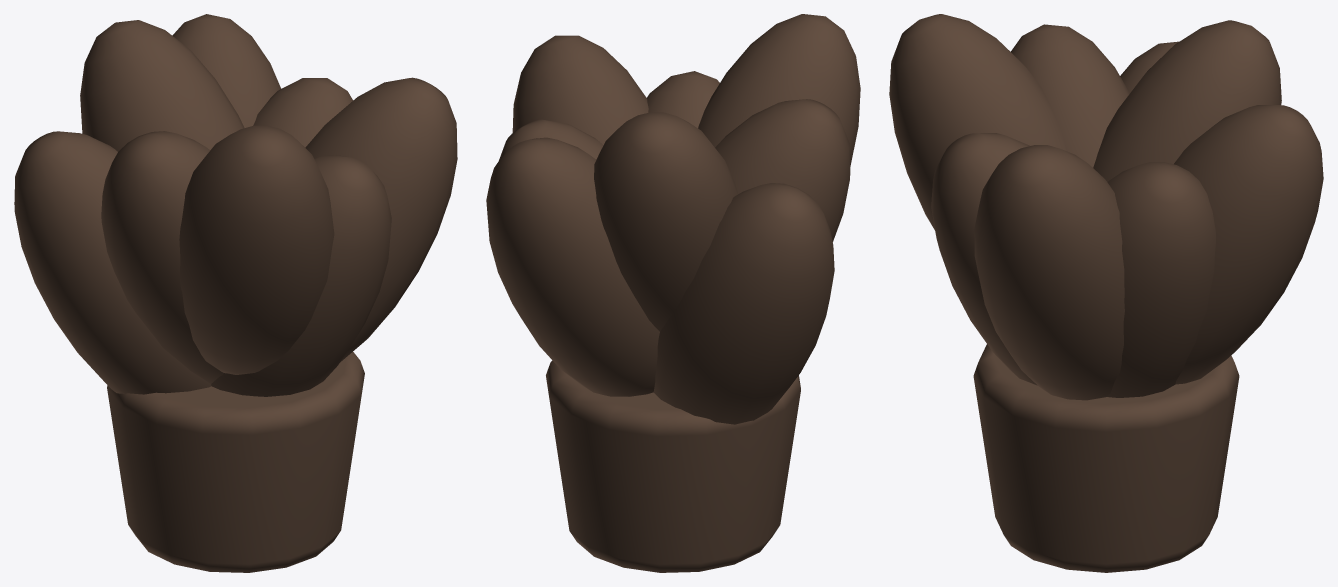
The model's file is plant_small.glb.
3 renders of one model, left to right at view 1: azimuth 30°, elevation 25°; view 2: azimuth 150°, elevation 25°; view 3: azimuth 270°, elevation 25°, orthographic. The views are drawn at different scales.
Parts seen in each view (by area): view 1: plant_small; view 2: plant_small; view 3: plant_small.
Part boxes in pixels (bbox=[...]): plant_small: bbox=[14, 14, 457, 572]; plant_small: bbox=[486, 14, 860, 572]; plant_small: bbox=[889, 14, 1323, 572].
Size of the model in its own units: 0.2385 by 0.2976 by 0.2396.
